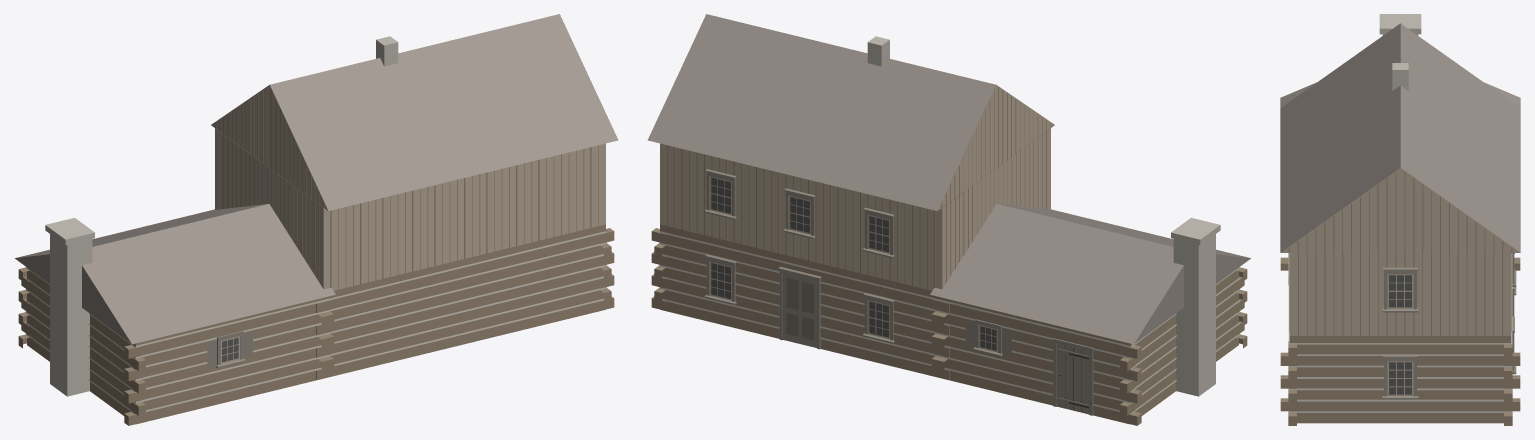
File: miller_house__log_frame_1827.glb
3 views of the same model, side by side, from view 1: azimuth 30°, elevation 25°; view 2: azimuth 150°, elevation 25°; view 3: azimuth 270°, elevation 25° (orthographic). The views are drawn at different scales.
Visible parts, largest first — view 1: miller_house__log_frame_1827; view 2: miller_house__log_frame_1827; view 3: miller_house__log_frame_1827.
Boxes of the visible parts, x1=… form: miller_house__log_frame_1827: x1=15, y1=14, x2=618, y2=425; miller_house__log_frame_1827: x1=647, y1=14, x2=1250, y2=425; miller_house__log_frame_1827: x1=1280, y1=14, x2=1520, y2=425.
Size of the model in its own units: 16.08 by 8.2 by 6.5.
